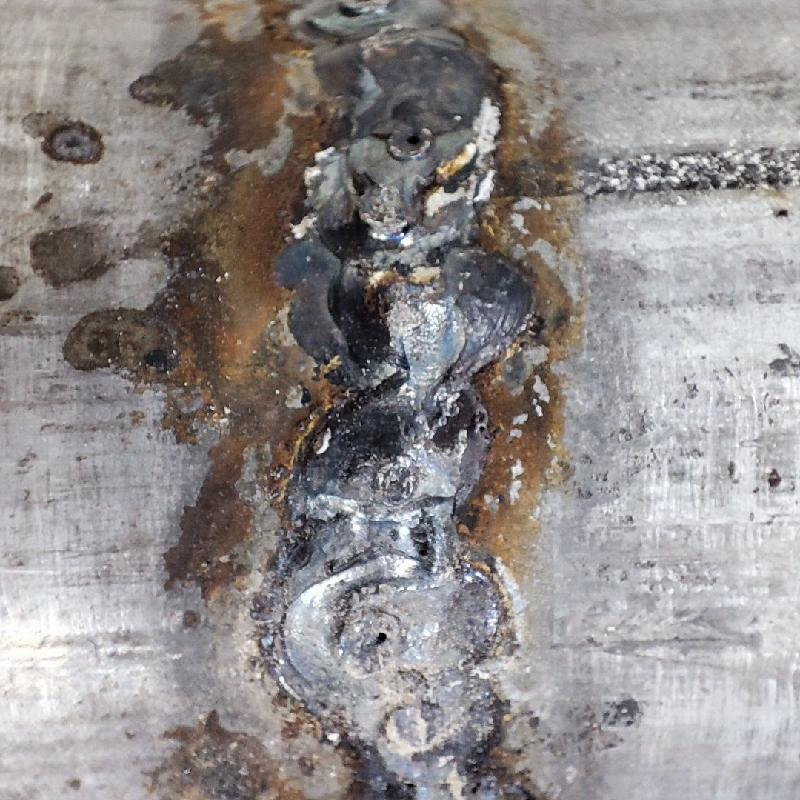Surface_pores: (339, 605, 408, 673), (388, 121, 435, 163)
wrong_size: (279, 0, 525, 530)
